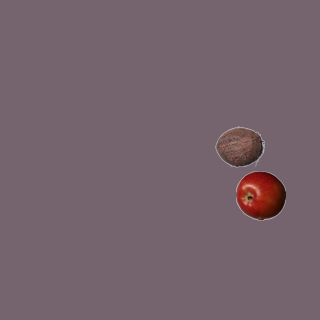Apple Braeburn: (235, 170, 285, 220)
Cocos: (214, 121, 264, 171)
